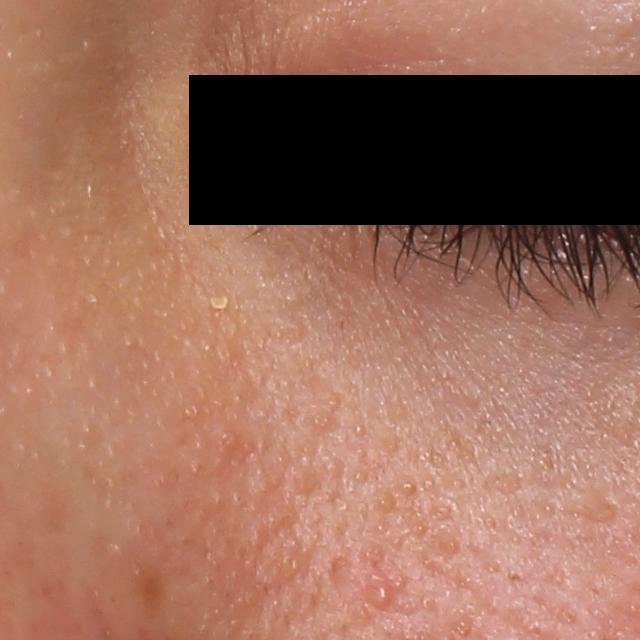comedo: (441, 533, 464, 557), (375, 494, 394, 513), (401, 480, 418, 500), (484, 561, 501, 577), (480, 515, 497, 530), (449, 476, 465, 491), (354, 422, 367, 439), (354, 469, 368, 484), (413, 522, 427, 536), (542, 502, 556, 515)
